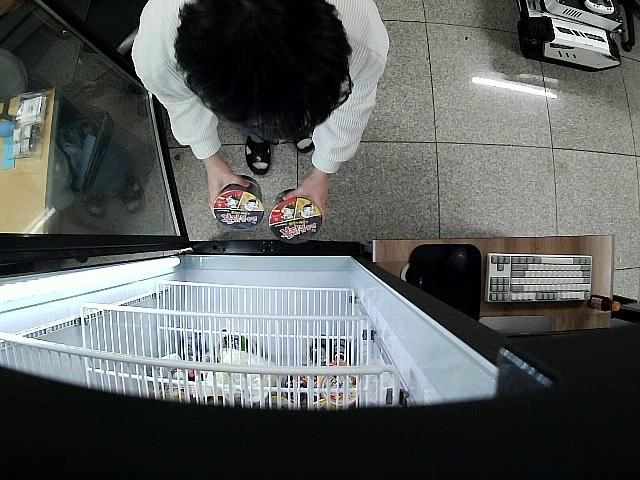00_hand: (283, 170, 329, 225), (207, 166, 251, 221)
07_buldak_L: (269, 188, 321, 245), (215, 176, 263, 231)
